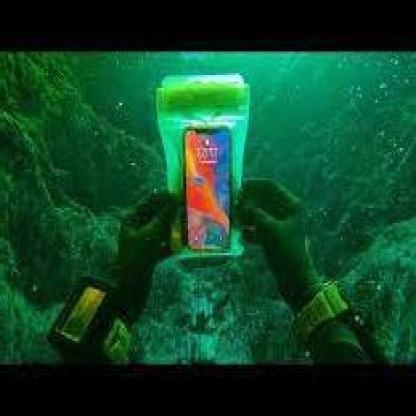cellphone: (180, 124, 233, 258)
